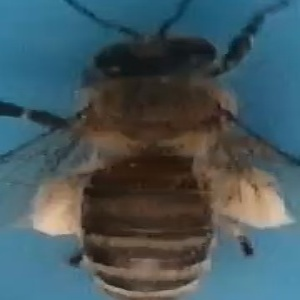bee: (10, 5, 295, 299)
